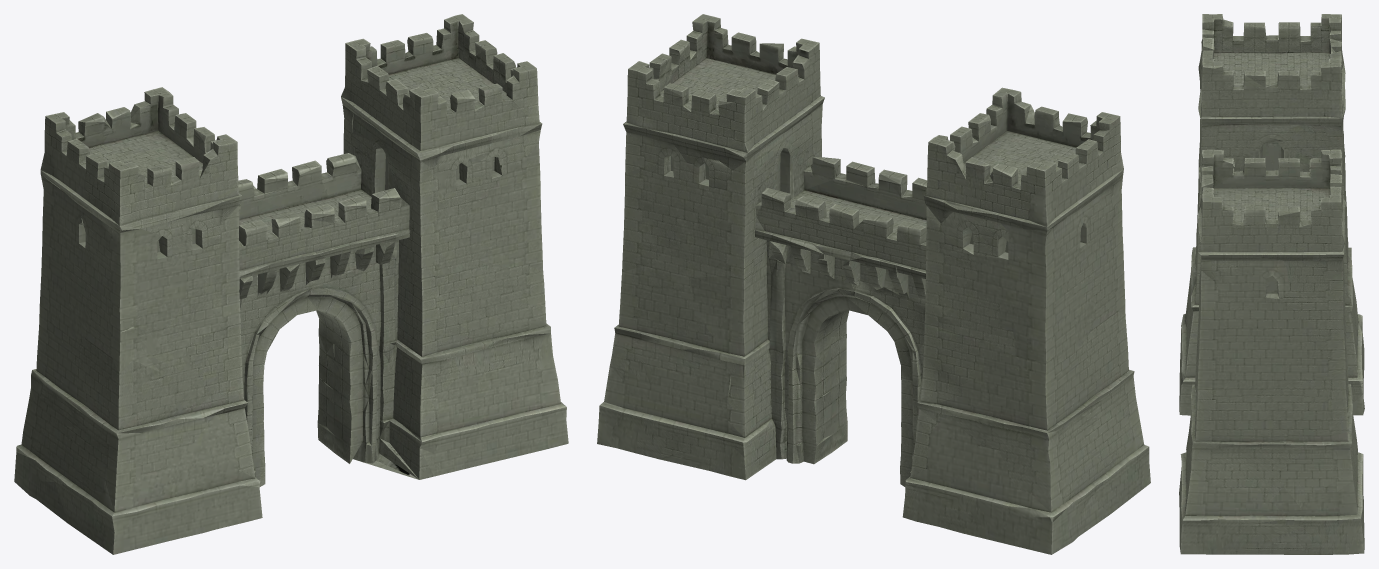
Rendered from main_gate.glb.
The picture shows the model from 3 angles, left to right: view 1: azimuth 30°, elevation 25°; view 2: azimuth 150°, elevation 25°; view 3: azimuth 270°, elevation 25°; orthographic projection. The views are drawn at different scales.
Visible parts, largest first — view 1: output_unwrapped; view 2: output_unwrapped; view 3: output_unwrapped.
Boxes of the visible parts, x1,y1,x2,y2 form: output_unwrapped: (14,14,568,554); output_unwrapped: (597,14,1150,554); output_unwrapped: (1179,14,1364,554).
Size of the model in its own units: 1.9 by 1.47 by 0.7184.
Materials: 1 (1 with a texture image).
